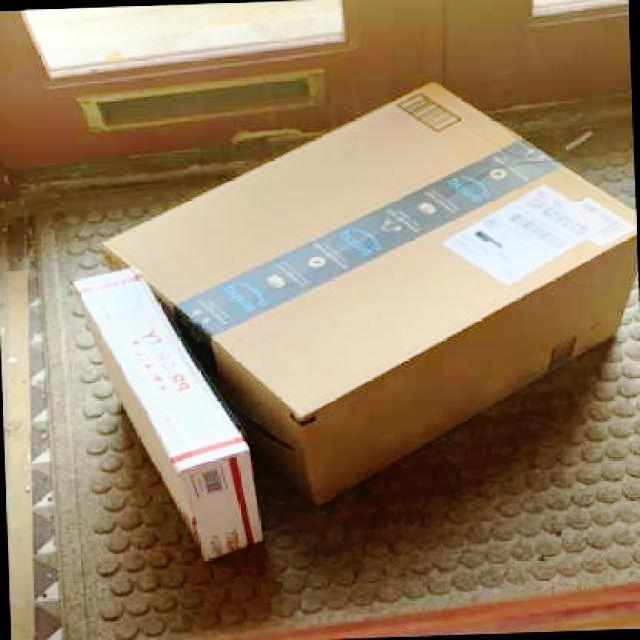Box: (94, 75, 638, 517), (70, 263, 264, 565)
